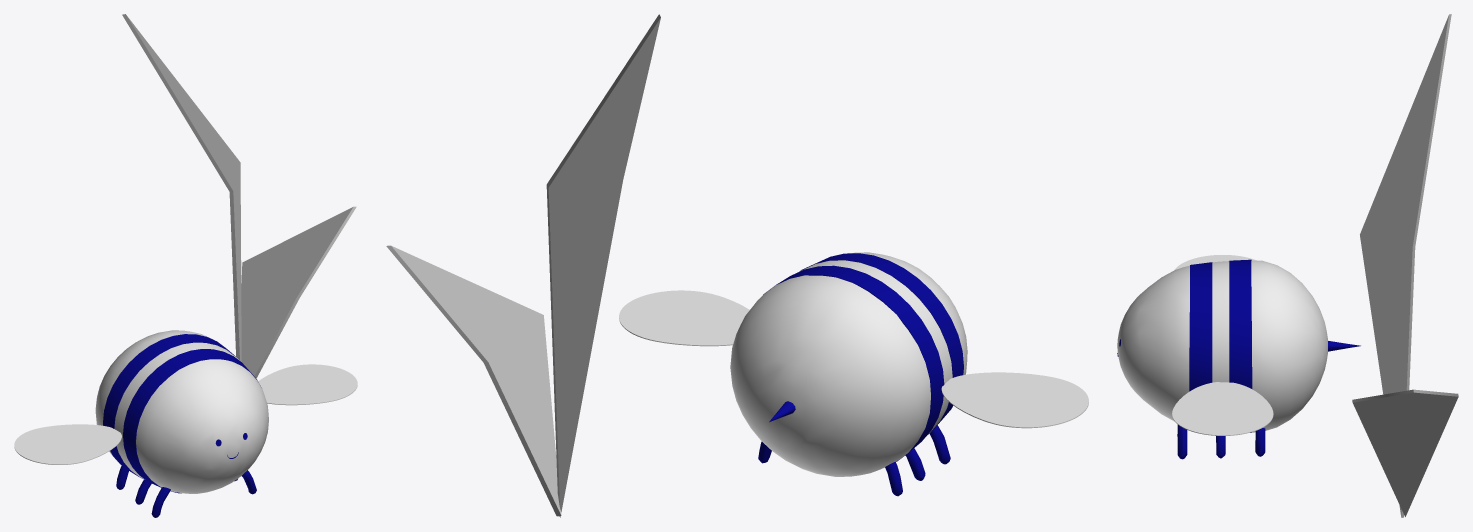
Rendered from bee-scene.glb.
3 views of the same model, side by side, from view 1: azimuth 30°, elevation 25°; view 2: azimuth 150°, elevation 25°; view 3: azimuth 270°, elevation 25° (orthographic). The views are drawn at different scales.
Visible parts, largest first — view 1: body, Cap_2_2, Cap_2_5, Cap_2, Cap_2_4, stripe1, stripe2, leaf2, leaf3, leg_4; view 2: body, Cap_1, Cap_2_2, Cap_2_5, Cap_2_4, stripe2, stripe1, leaf2, leaf3; view 3: body, Cap_2, Cap_1_2, Cap_2_4, stripe1, stripe2, leaf2, Cap_2_5.
Part boxes in pixels (box(x1,y1,x2,y2)): body: box(95, 330, 268, 493); Cap_2_2: box(241, 207, 352, 376); Cap_2_5: box(14, 424, 121, 464); Cap_2: box(126, 15, 241, 361); Cap_2_4: box(258, 364, 357, 404); stripe1: box(123, 349, 261, 493); stripe2: box(103, 334, 235, 478); leaf2: box(122, 14, 239, 360); leaf3: box(254, 206, 356, 378); leg_4: box(151, 470, 256, 517); body: box(730, 252, 967, 476); Cap_1: box(548, 18, 660, 517); Cap_2_2: box(391, 246, 561, 515); Cap_2_5: box(941, 372, 1088, 427); Cap_2_4: box(619, 290, 749, 345); stripe2: box(763, 265, 944, 461); stripe1: box(800, 253, 963, 434); leaf2: box(546, 14, 660, 517); leaf3: box(386, 245, 561, 516); body: box(1117, 260, 1327, 432); Cap_2: box(1360, 15, 1448, 516); Cap_1_2: box(1353, 392, 1458, 516); Cap_2_4: box(1172, 382, 1273, 435); stripe1: box(1189, 262, 1212, 391); stripe2: box(1229, 259, 1252, 432); leaf2: box(1401, 14, 1451, 517); Cap_2_5: box(1174, 255, 1256, 270).
Bounding box in the file's own units: 3.22 × 2.96 × 2.02.
